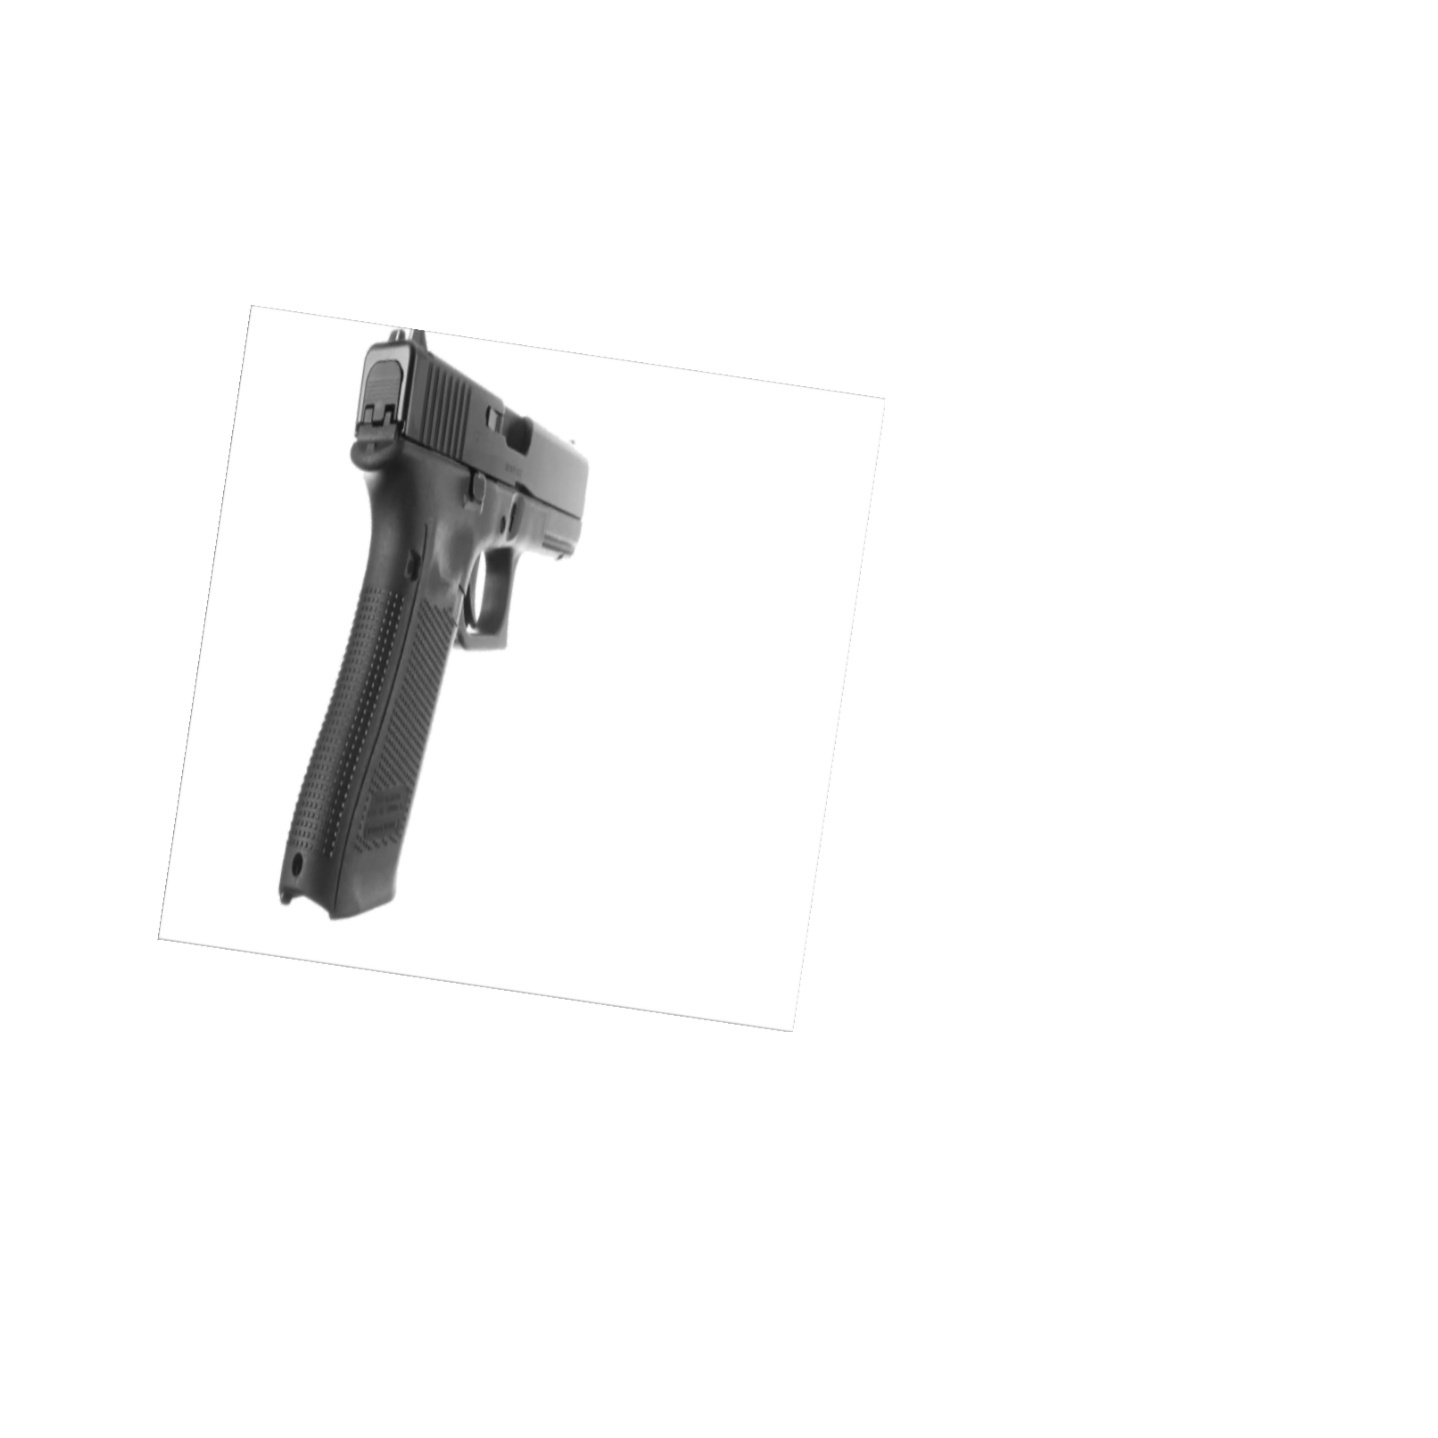gun: (265, 329, 652, 936)
